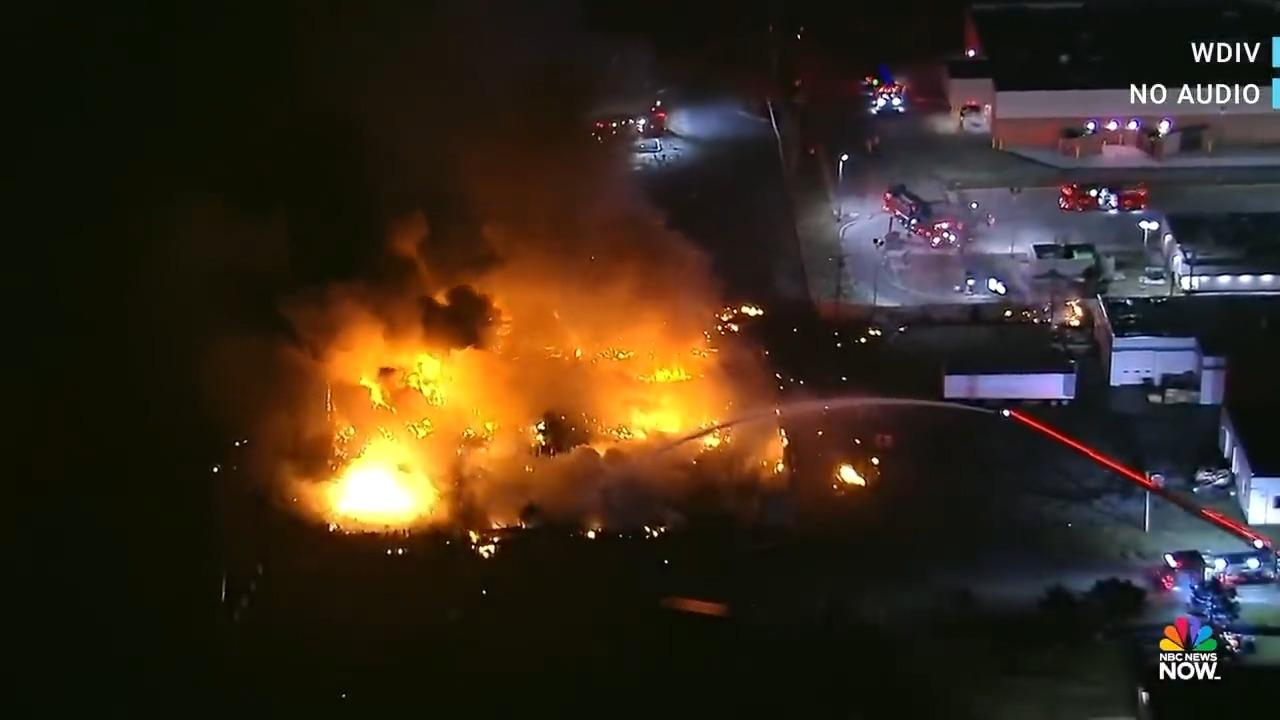fire: (295, 216, 703, 541), (962, 15, 982, 56)
